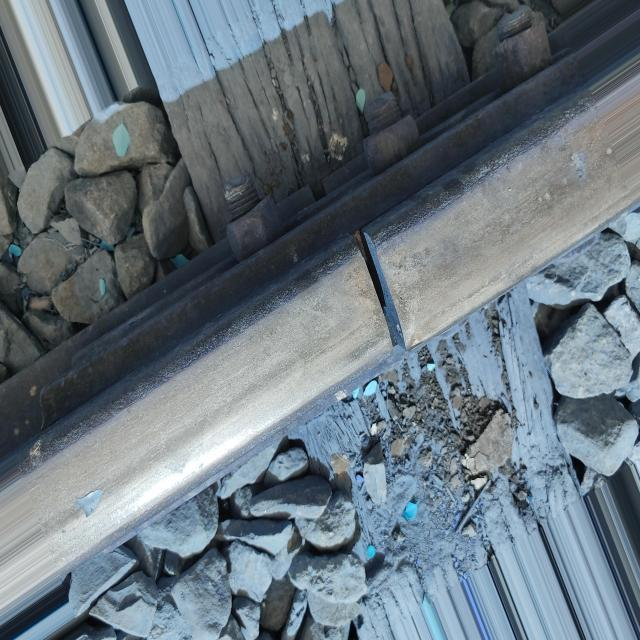Defective Joint: (30, 7, 591, 432)
